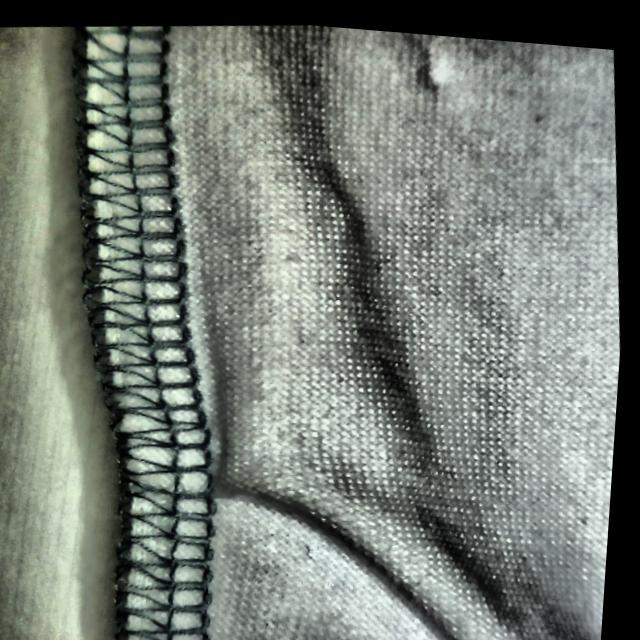seam: (39, 324, 373, 580)
